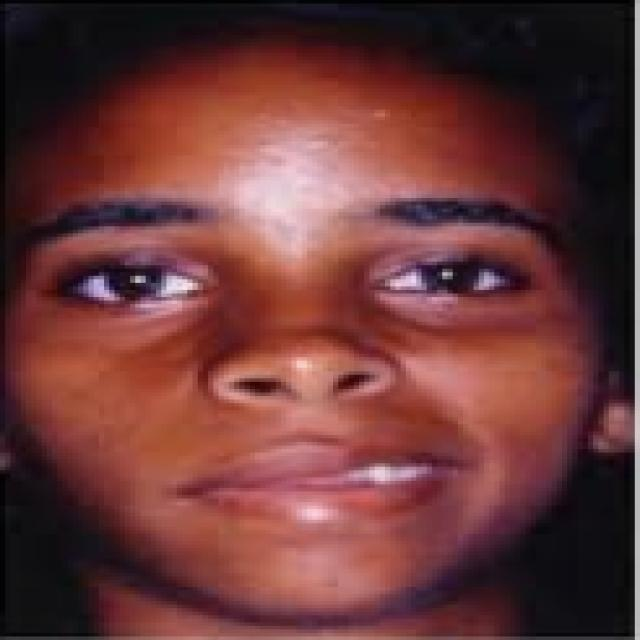stroke_face: (57, 10, 640, 640)
